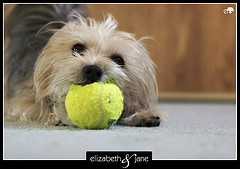tennis ball: (65, 81, 125, 131)
